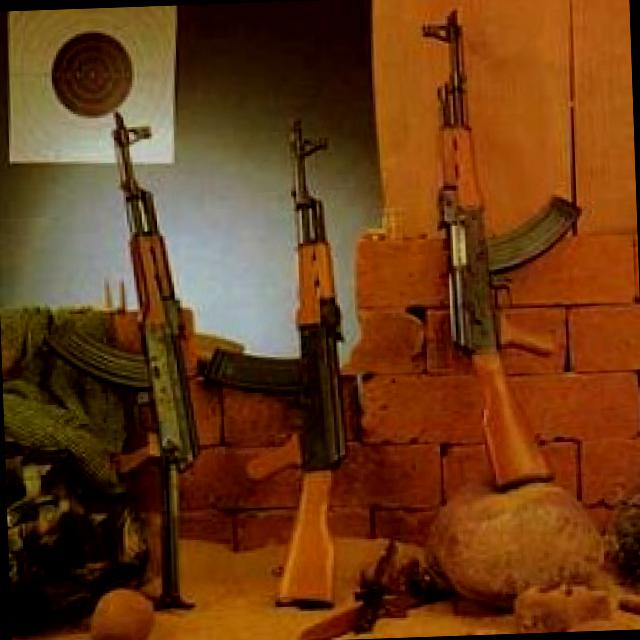long weapon: (384, 2, 596, 502), (71, 96, 226, 639), (236, 92, 385, 630)
